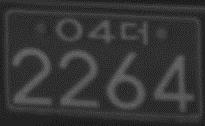0: (54, 16, 83, 43)
2: (11, 45, 53, 107), (59, 48, 99, 108)
4: (152, 53, 196, 114), (87, 18, 114, 45)
6: (105, 50, 146, 111)
더: (119, 20, 149, 45)
